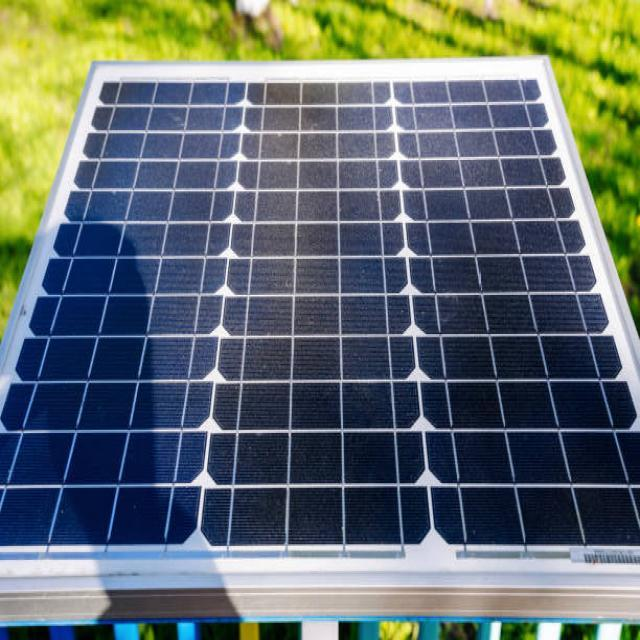no faulty: (0, 57, 640, 592)
